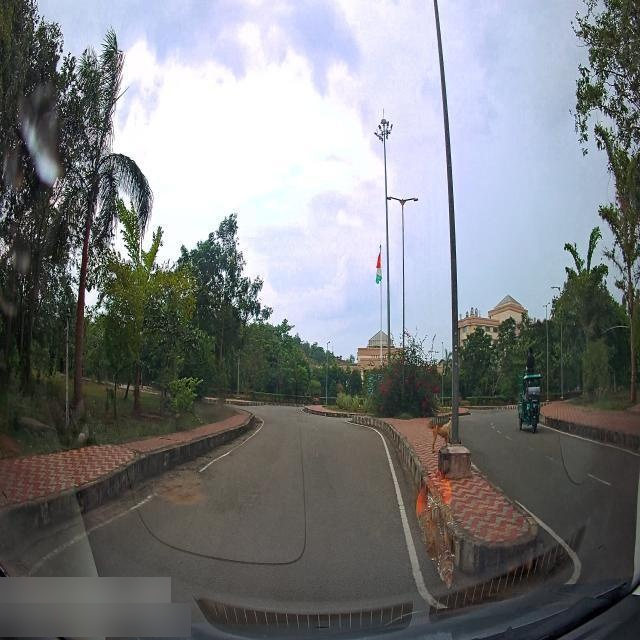pothole: (154, 478, 206, 508)
